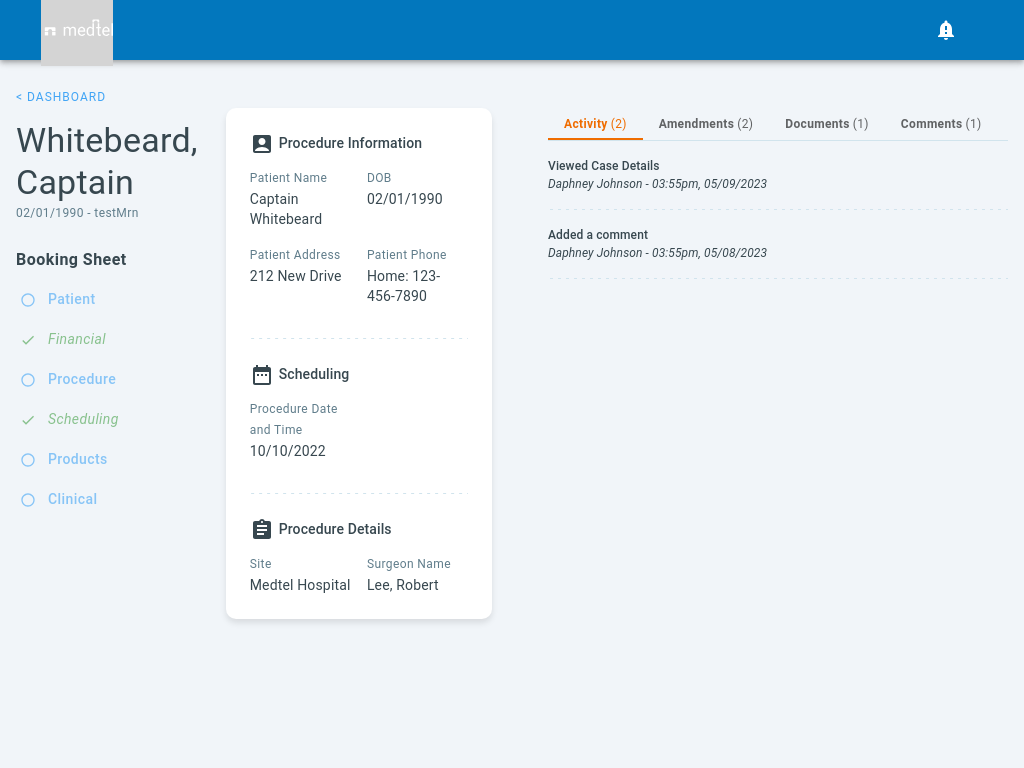
Scenario: [caseId]: Case Hub Page › opens and closes the booking sheet
The width and height of the screenshot is (1024, 768).
Click the button "Booking Sheet": (75, 260) [16,240,135,280]
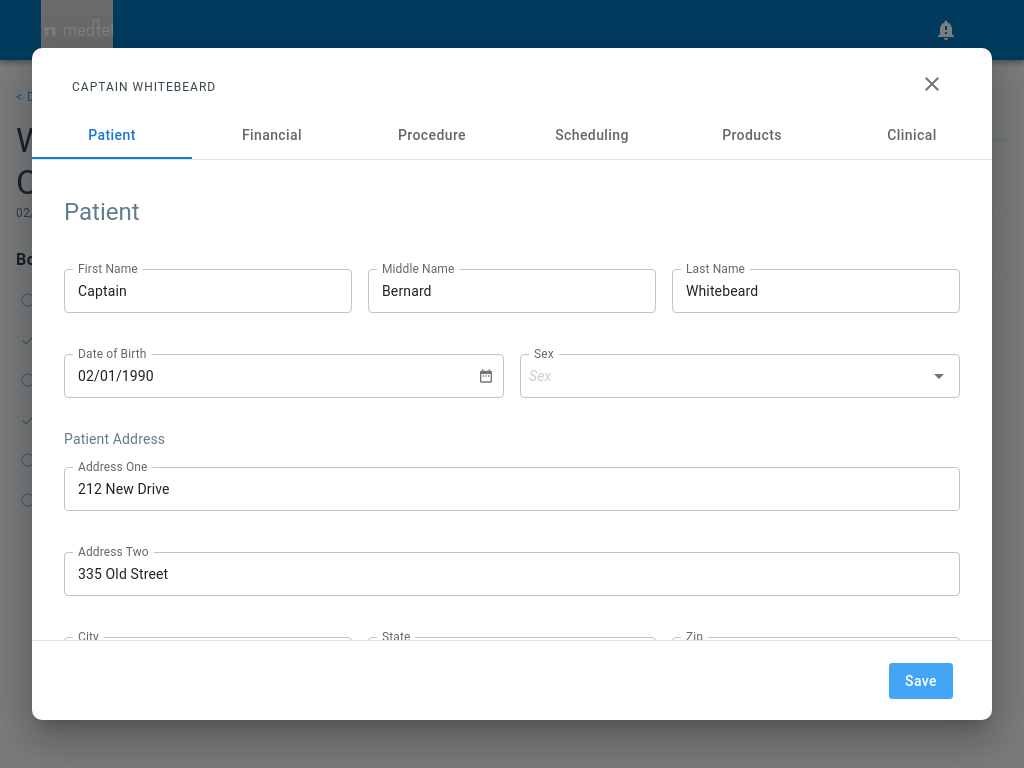
Expected: the tab "Patient" is shown, [32,112,192,160]
Result: the icon with test id "CloseIcon" is shown at [920,72,944,96]
Click the button with test id "CloseIcon": (932, 84) [912,64,952,104]
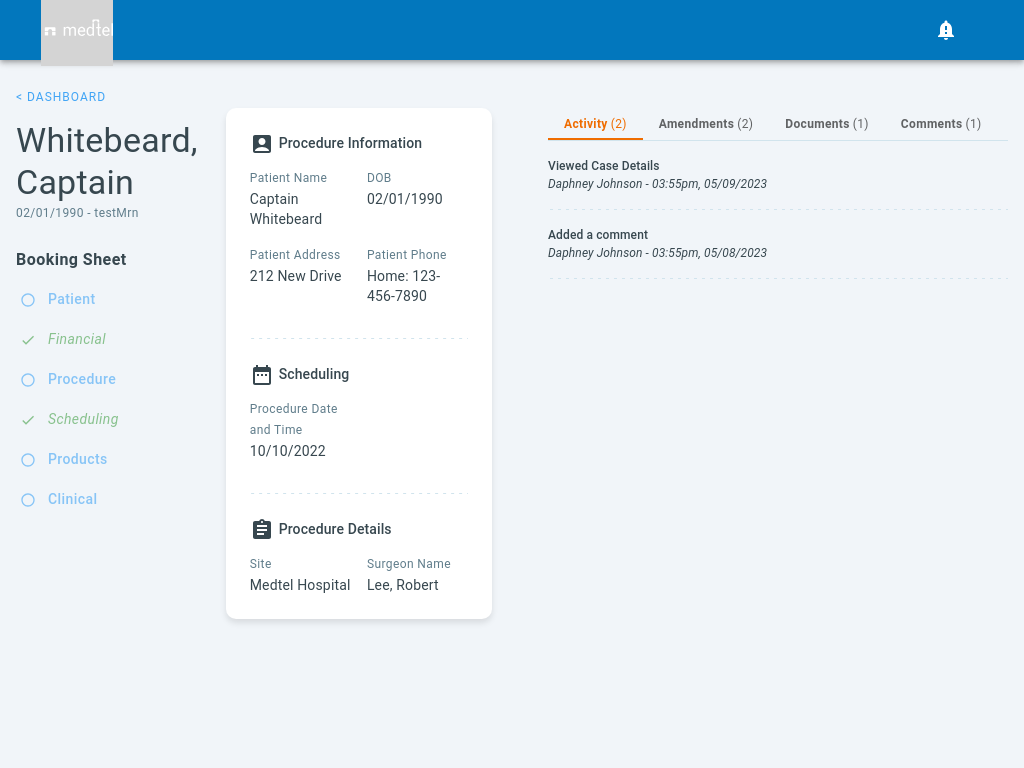
Result: the icon with test id "CloseIcon" is gone
